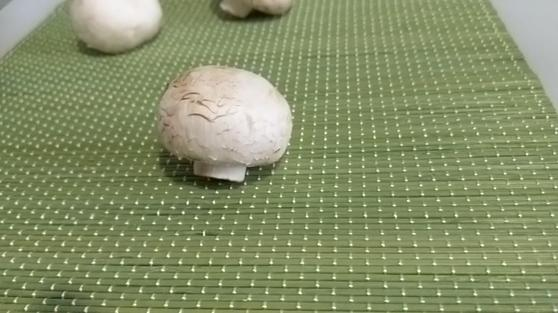champignon: (157, 61, 298, 198), (77, 1, 166, 62)
